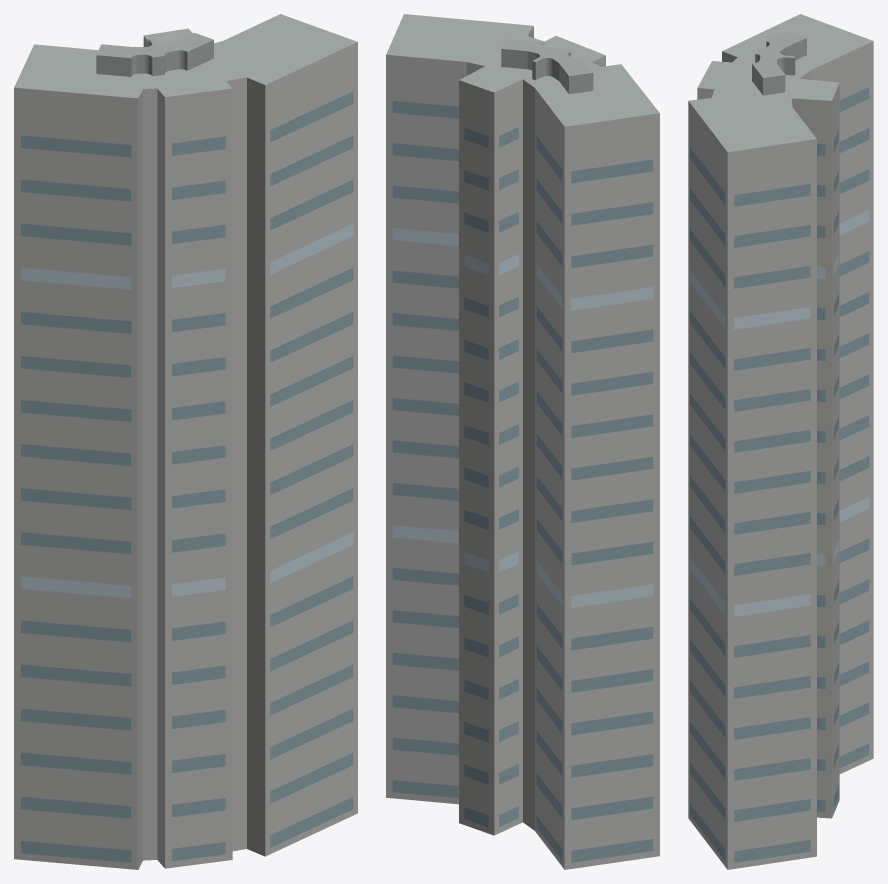
File: fallback-banpo-riche-102.glb
3 views of the same model, side by side, from view 1: azimuth 30°, elevation 25°; view 2: azimuth 150°, elevation 25°; view 3: azimuth 270°, elevation 25° (orthographic). The views are drawn at different scales.
Visible parts, largest first — view 1: fallback-banpo-riche-102; view 2: fallback-banpo-riche-102; view 3: fallback-banpo-riche-102.
Part boxes in pixels (<box>): fallback-banpo-riche-102: <box>14,14,357,869</box>; fallback-banpo-riche-102: <box>386,14,659,869</box>; fallback-banpo-riche-102: <box>688,14,873,869</box>.
Size of the model in its own units: 40.76 by 101 by 23.07.
